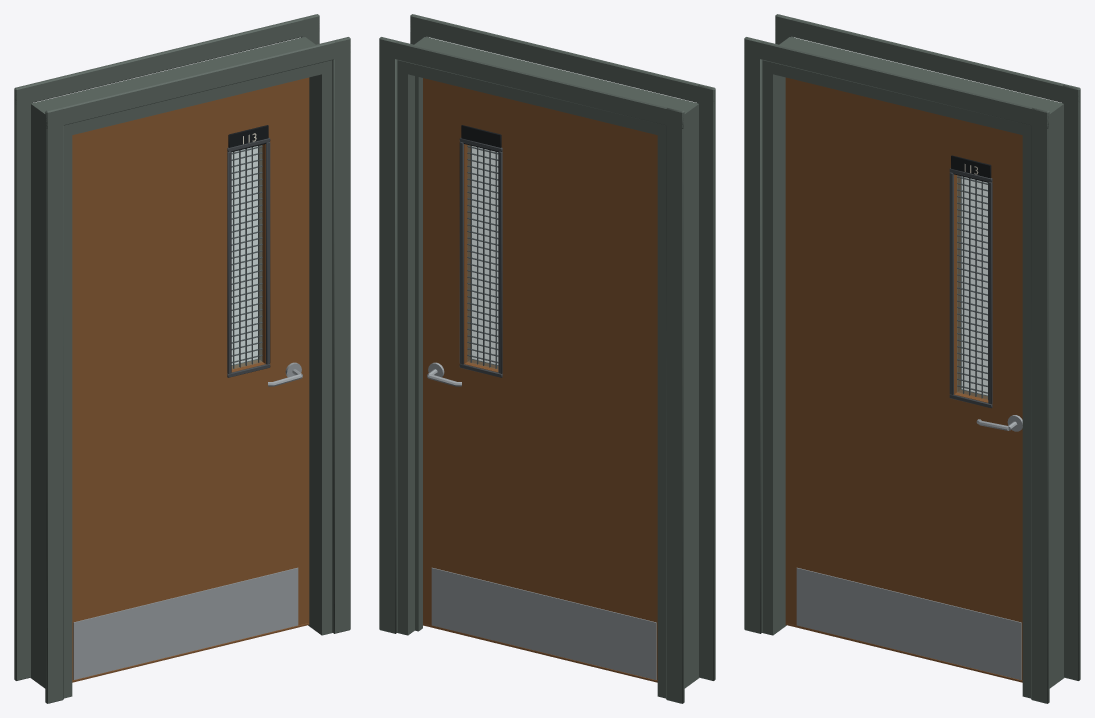
Rendered from door_classroom.glb.
3 views of the same model, side by side, from view 1: azimuth 30°, elevation 25°; view 2: azimuth 150°, elevation 25°; view 3: azimuth 330°, elevation 25° (orthographic).
Visible parts, largest first — view 1: DoorLeaf, DoorFrame; view 2: DoorLeaf, DoorFrame; view 3: DoorLeaf, DoorFrame.
Part boxes in pixels (x1=…): DoorLeaf: x1=72, y1=77, x2=309, y2=682; DoorFrame: x1=14, y1=14, x2=350, y2=703; DoorLeaf: x1=423, y1=78, x2=657, y2=682; DoorFrame: x1=379, y1=14, x2=715, y2=703; DoorLeaf: x1=785, y1=77, x2=1022, y2=682; DoorFrame: x1=744, y1=14, x2=1080, y2=703.
Bounding box in the file's own units: 1.22 × 2.27 × 0.232.
